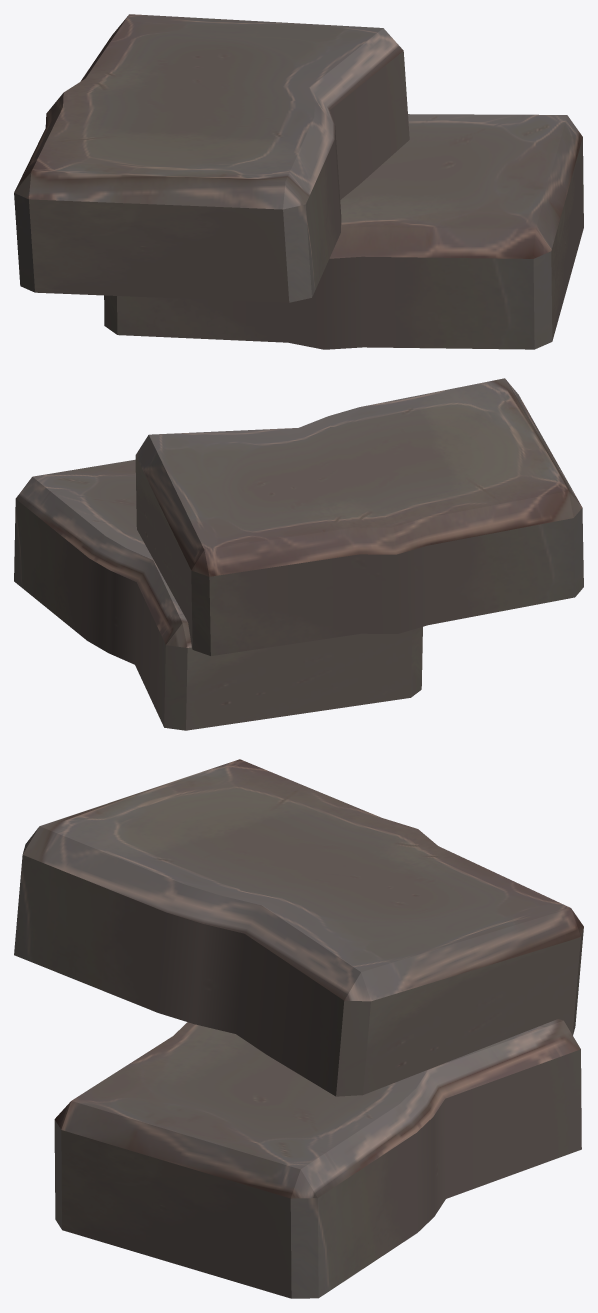
Rendered from BrickSmallPile3.fbx.
3 views of the same model, one above another, from view 1: azimuth 30°, elevation 25°; view 2: azimuth 150°, elevation 25°; view 3: azimuth 270°, elevation 25° (orthographic). The views are drawn at different scales.
Parts seen in each view (by area): view 1: pCube69, pCube70; view 2: pCube69, pCube70; view 3: pCube69, pCube70.
Boxes of the visible parts, <box> form: pCube69: <box>14,14,409,302</box>; pCube70: <box>104,114,583,349</box>; pCube69: <box>135,378,583,655</box>; pCube70: <box>14,459,422,730</box>; pCube69: <box>14,759,583,1096</box>; pCube70: <box>54,1019,581,1298</box>.
Bounding box in the file's own units: 69.8 × 27.13 × 53.78.
